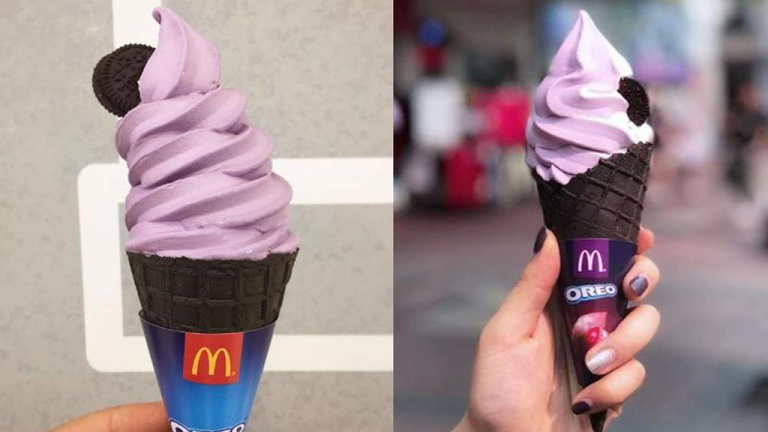mcdonalds: (184, 336, 240, 389), (573, 245, 608, 273)
